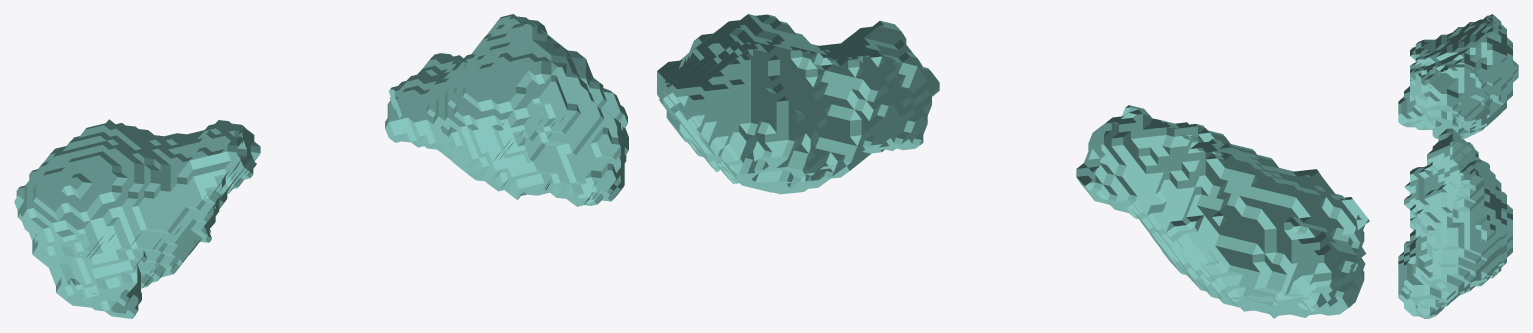
File: region_0134_SGN__secondary_gustatory_nucleus_.glb
3 renders of one model, left to right at view 1: azimuth 30°, elevation 25°; view 2: azimuth 150°, elevation 25°; view 3: azimuth 270°, elevation 25°, orthographic. The views are drawn at different scales.
Parts seen in each view (by area): view 1: world; view 2: world; view 3: world.
Part boxes in pixels (box(x1,y1,x2,y2)): world: box(14, 14, 628, 318); world: box(657, 14, 1369, 318); world: box(1398, 14, 1518, 318).
Size of the model in its own units: 0.736 by 0.208 by 0.168.
